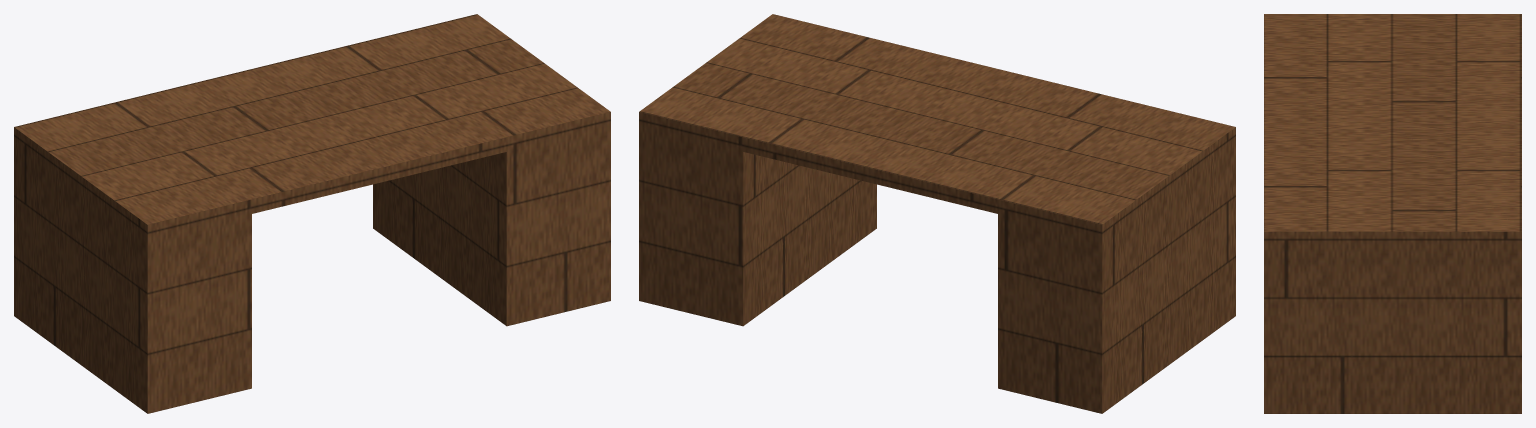
Rendered from desk.obj.
3 renders of one model, left to right at view 1: azimuth 30°, elevation 25°; view 2: azimuth 150°, elevation 25°; view 3: azimuth 270°, elevation 25°, orthographic. The views are drawn at different scales.
Parts seen in each view (by area): view 1: wood; view 2: wood; view 3: wood.
Boxes of the visible parts, x1,y1,x2,y2 form: wood: (14,14,610,413); wood: (639,14,1235,413); wood: (1264,14,1521,413).
Size of the model in its own units: 2 by 0.78 by 1.
Materials: 1 (1 with a texture image).
